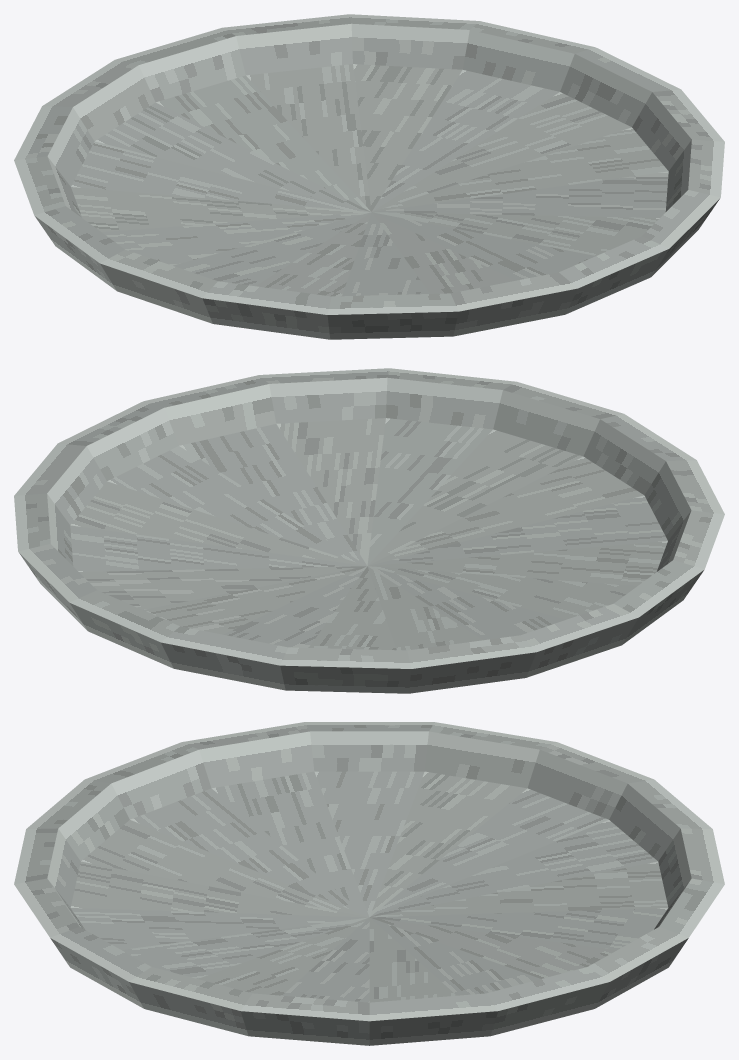
File: tin_plate.glb
3 views of the same model, one above another, from view 1: azimuth 30°, elevation 25°; view 2: azimuth 150°, elevation 25°; view 3: azimuth 270°, elevation 25° (orthographic).
Visible parts, largest first — view 1: block_shallow plate or screen; view 2: block_shallow plate or screen; view 3: block_shallow plate or screen.
Part boxes in pixels (<box>): block_shallow plate or screen: <box>14,14,724,339</box>; block_shallow plate or screen: <box>14,368,724,693</box>; block_shallow plate or screen: <box>14,722,724,1045</box>.
Size of the model in its own units: 0.2589 by 0.0284 by 0.26.
1 material, 1 textured.
